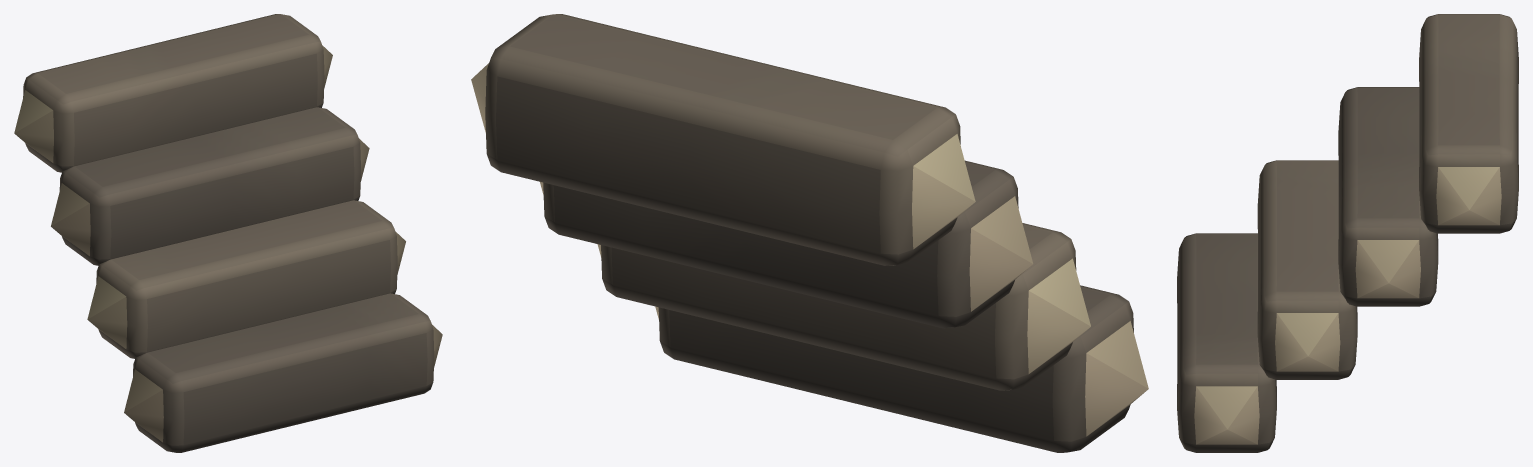
The model's file is DryWood_Stairs.fbx.
The picture shows the model from 3 angles, left to right: view 1: azimuth 30°, elevation 25°; view 2: azimuth 150°, elevation 25°; view 3: azimuth 270°, elevation 25°; orthographic projection. The views are drawn at different scales.
Parts seen in each view (by area): view 1: DryWood_Stairs_LOD0; view 2: DryWood_Stairs_LOD0; view 3: DryWood_Stairs_LOD0.
Boxes of the visible parts, box(x1,y1,x2,y2) form: DryWood_Stairs_LOD0: box(14, 14, 442, 452); DryWood_Stairs_LOD0: box(471, 14, 1148, 452); DryWood_Stairs_LOD0: box(1177, 14, 1518, 452).
Size of what is drawn, in the model's own units: 1.26 by 1.05 by 1.06.
